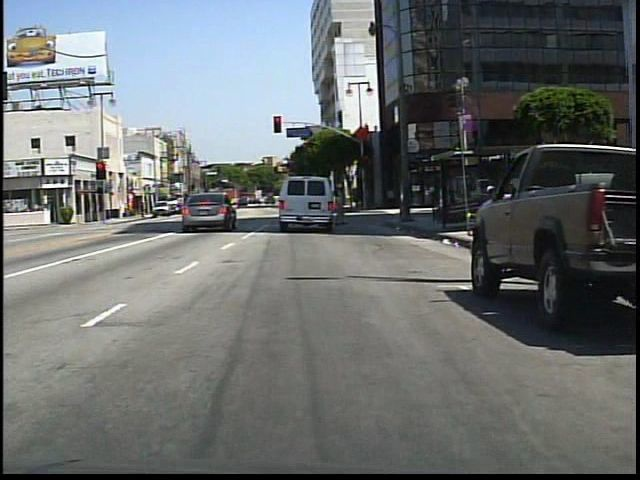person: (328, 182, 350, 226), (201, 193, 216, 218)
